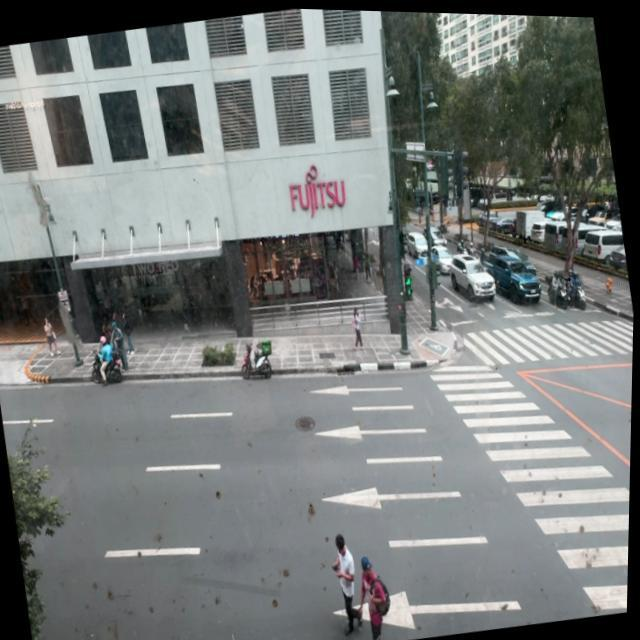jaywalking: (349, 553, 395, 640), (327, 532, 365, 634)
